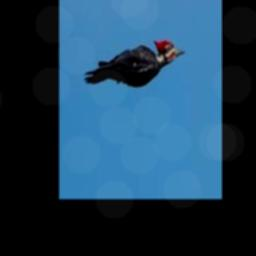Woodpecker: (83, 38, 184, 87)
